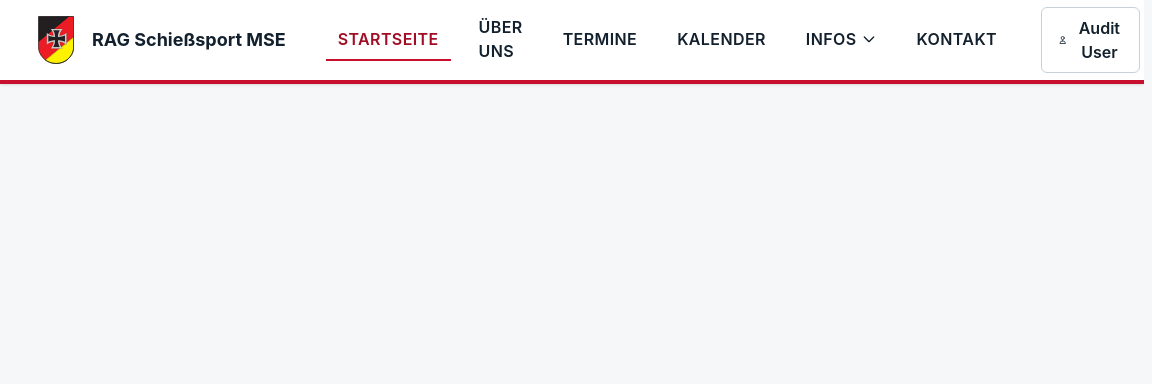
Test: Navigation › shows member self-service links for auditor users
Click the button "Audit User": (1091, 40) [1041, 7, 1140, 73]
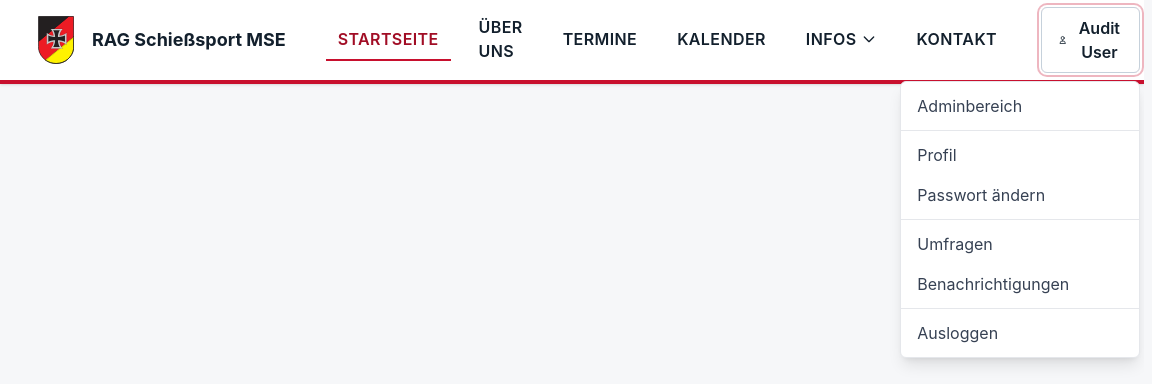
Expected: the link "Profil" is shown, [917, 145, 957, 165]
Expected: the link "Benachrichtigungen" is shown, [917, 274, 1069, 294]
Expected: the link "Passwort ändern" is shown, [917, 185, 1045, 205]
